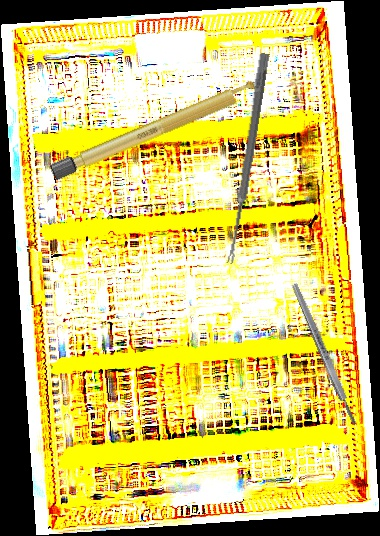Scalpel Handle: (48, 74, 269, 182), (290, 281, 359, 428)
Surgical Spoon: (225, 52, 270, 265)
